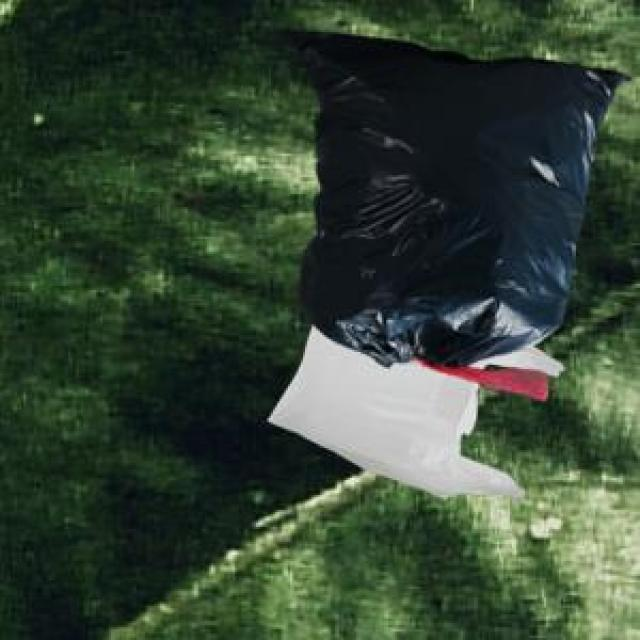miscellaneous trash: (275, 28, 627, 397)
